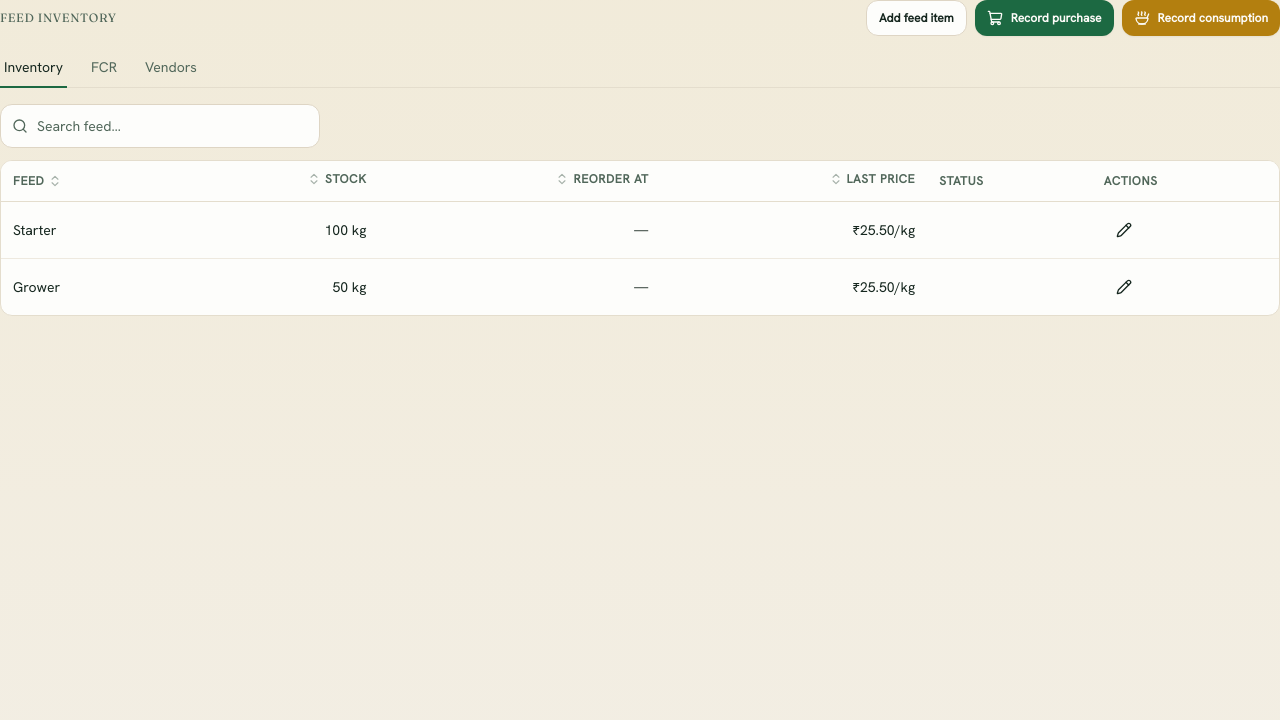
FeedPanel (11.6c conversion) › records a purchase with an integer-paise string via its own dialog form
expect the text "Starter" is shown: met, box [13,220,56,238]
Click the button "Record purchase" at (1044, 18), box [975,0,1114,36]
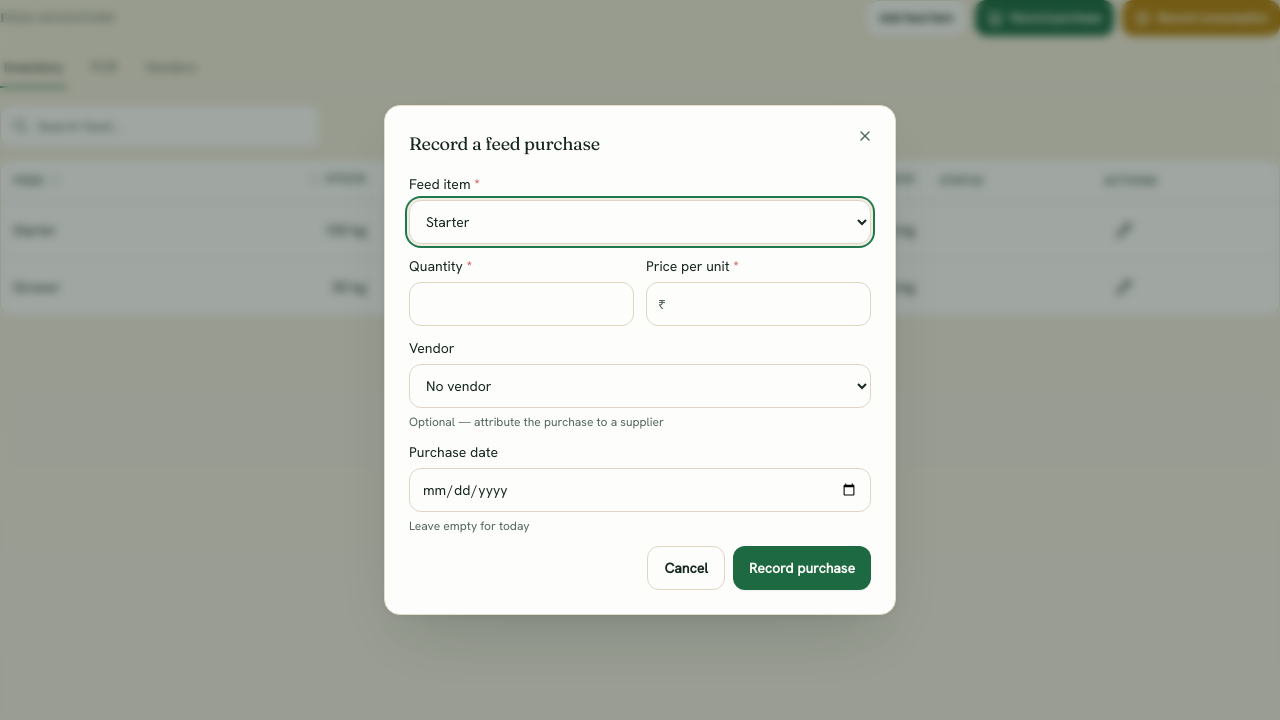
Type "10" into the number field labelled "Quantity *" at (522, 304), box [409,282,634,326]
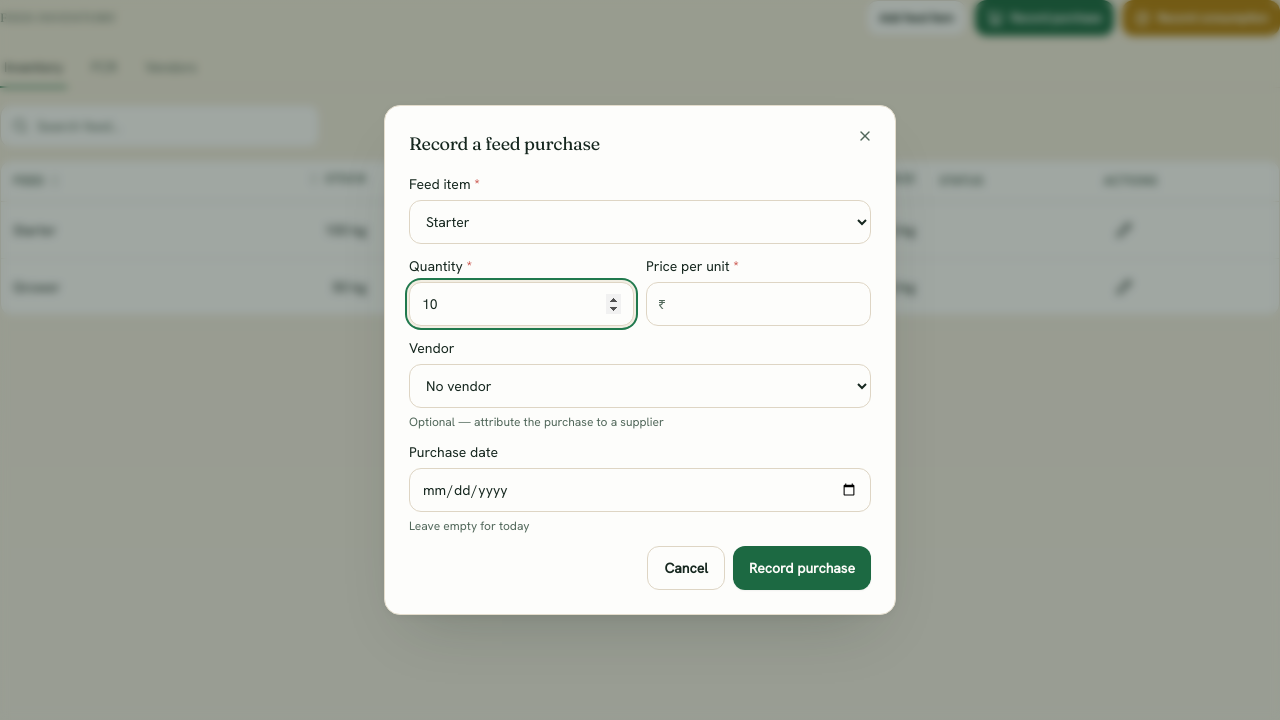
Type "25.50" into the field labelled "Price per unit *" at (758, 304), box [646,282,871,326]
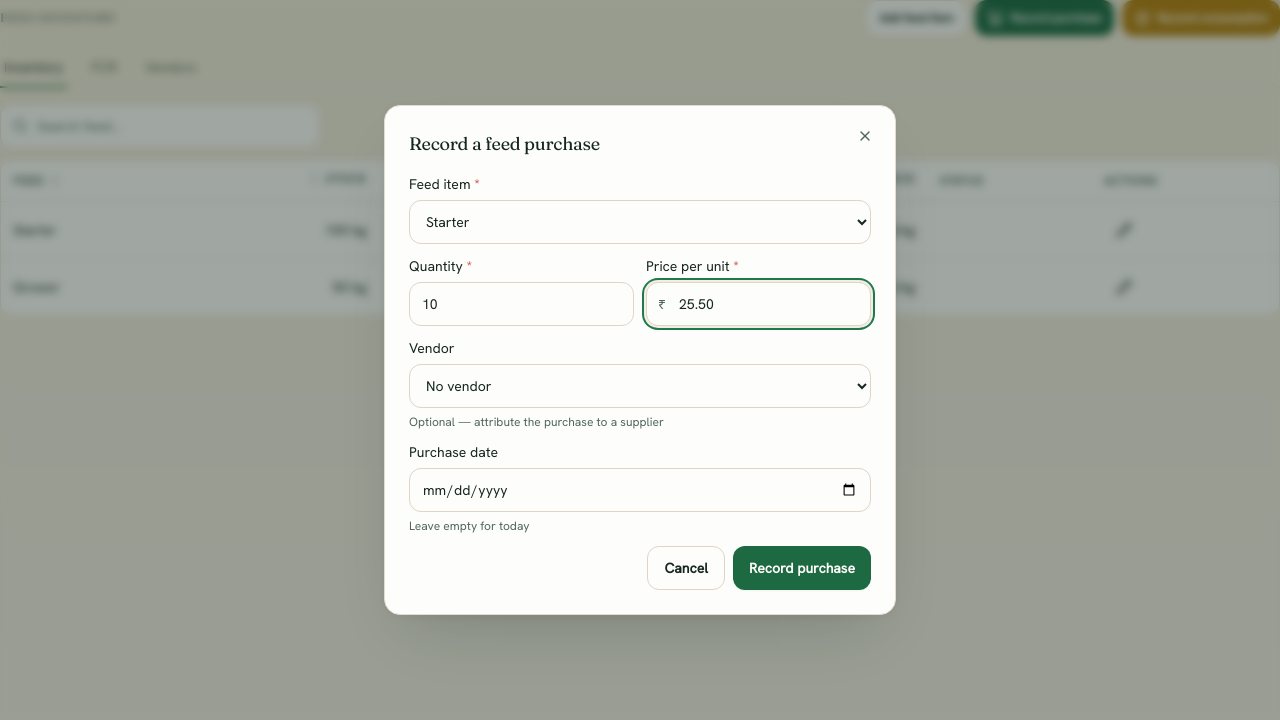
Click the button "Record purchase" at (802, 568), box [733,546,871,590]
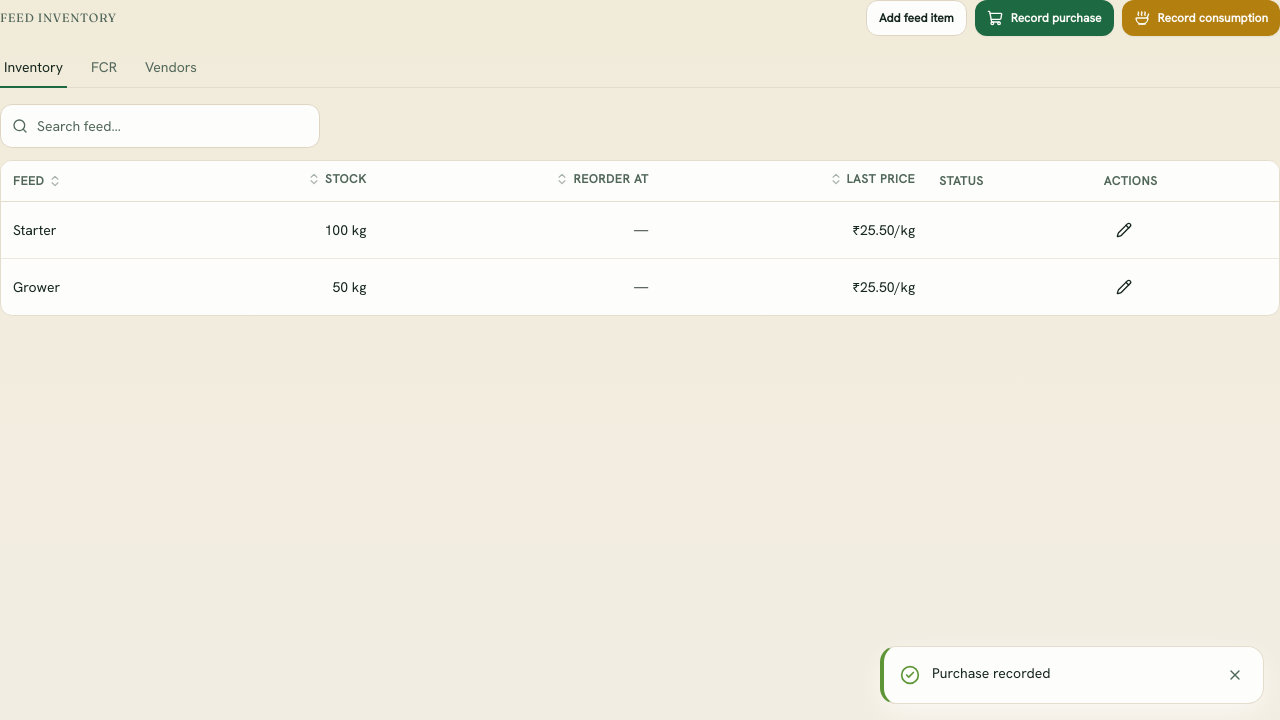
expect the text "Purchase recorded" is shown: met, box [932,664,1050,682]
